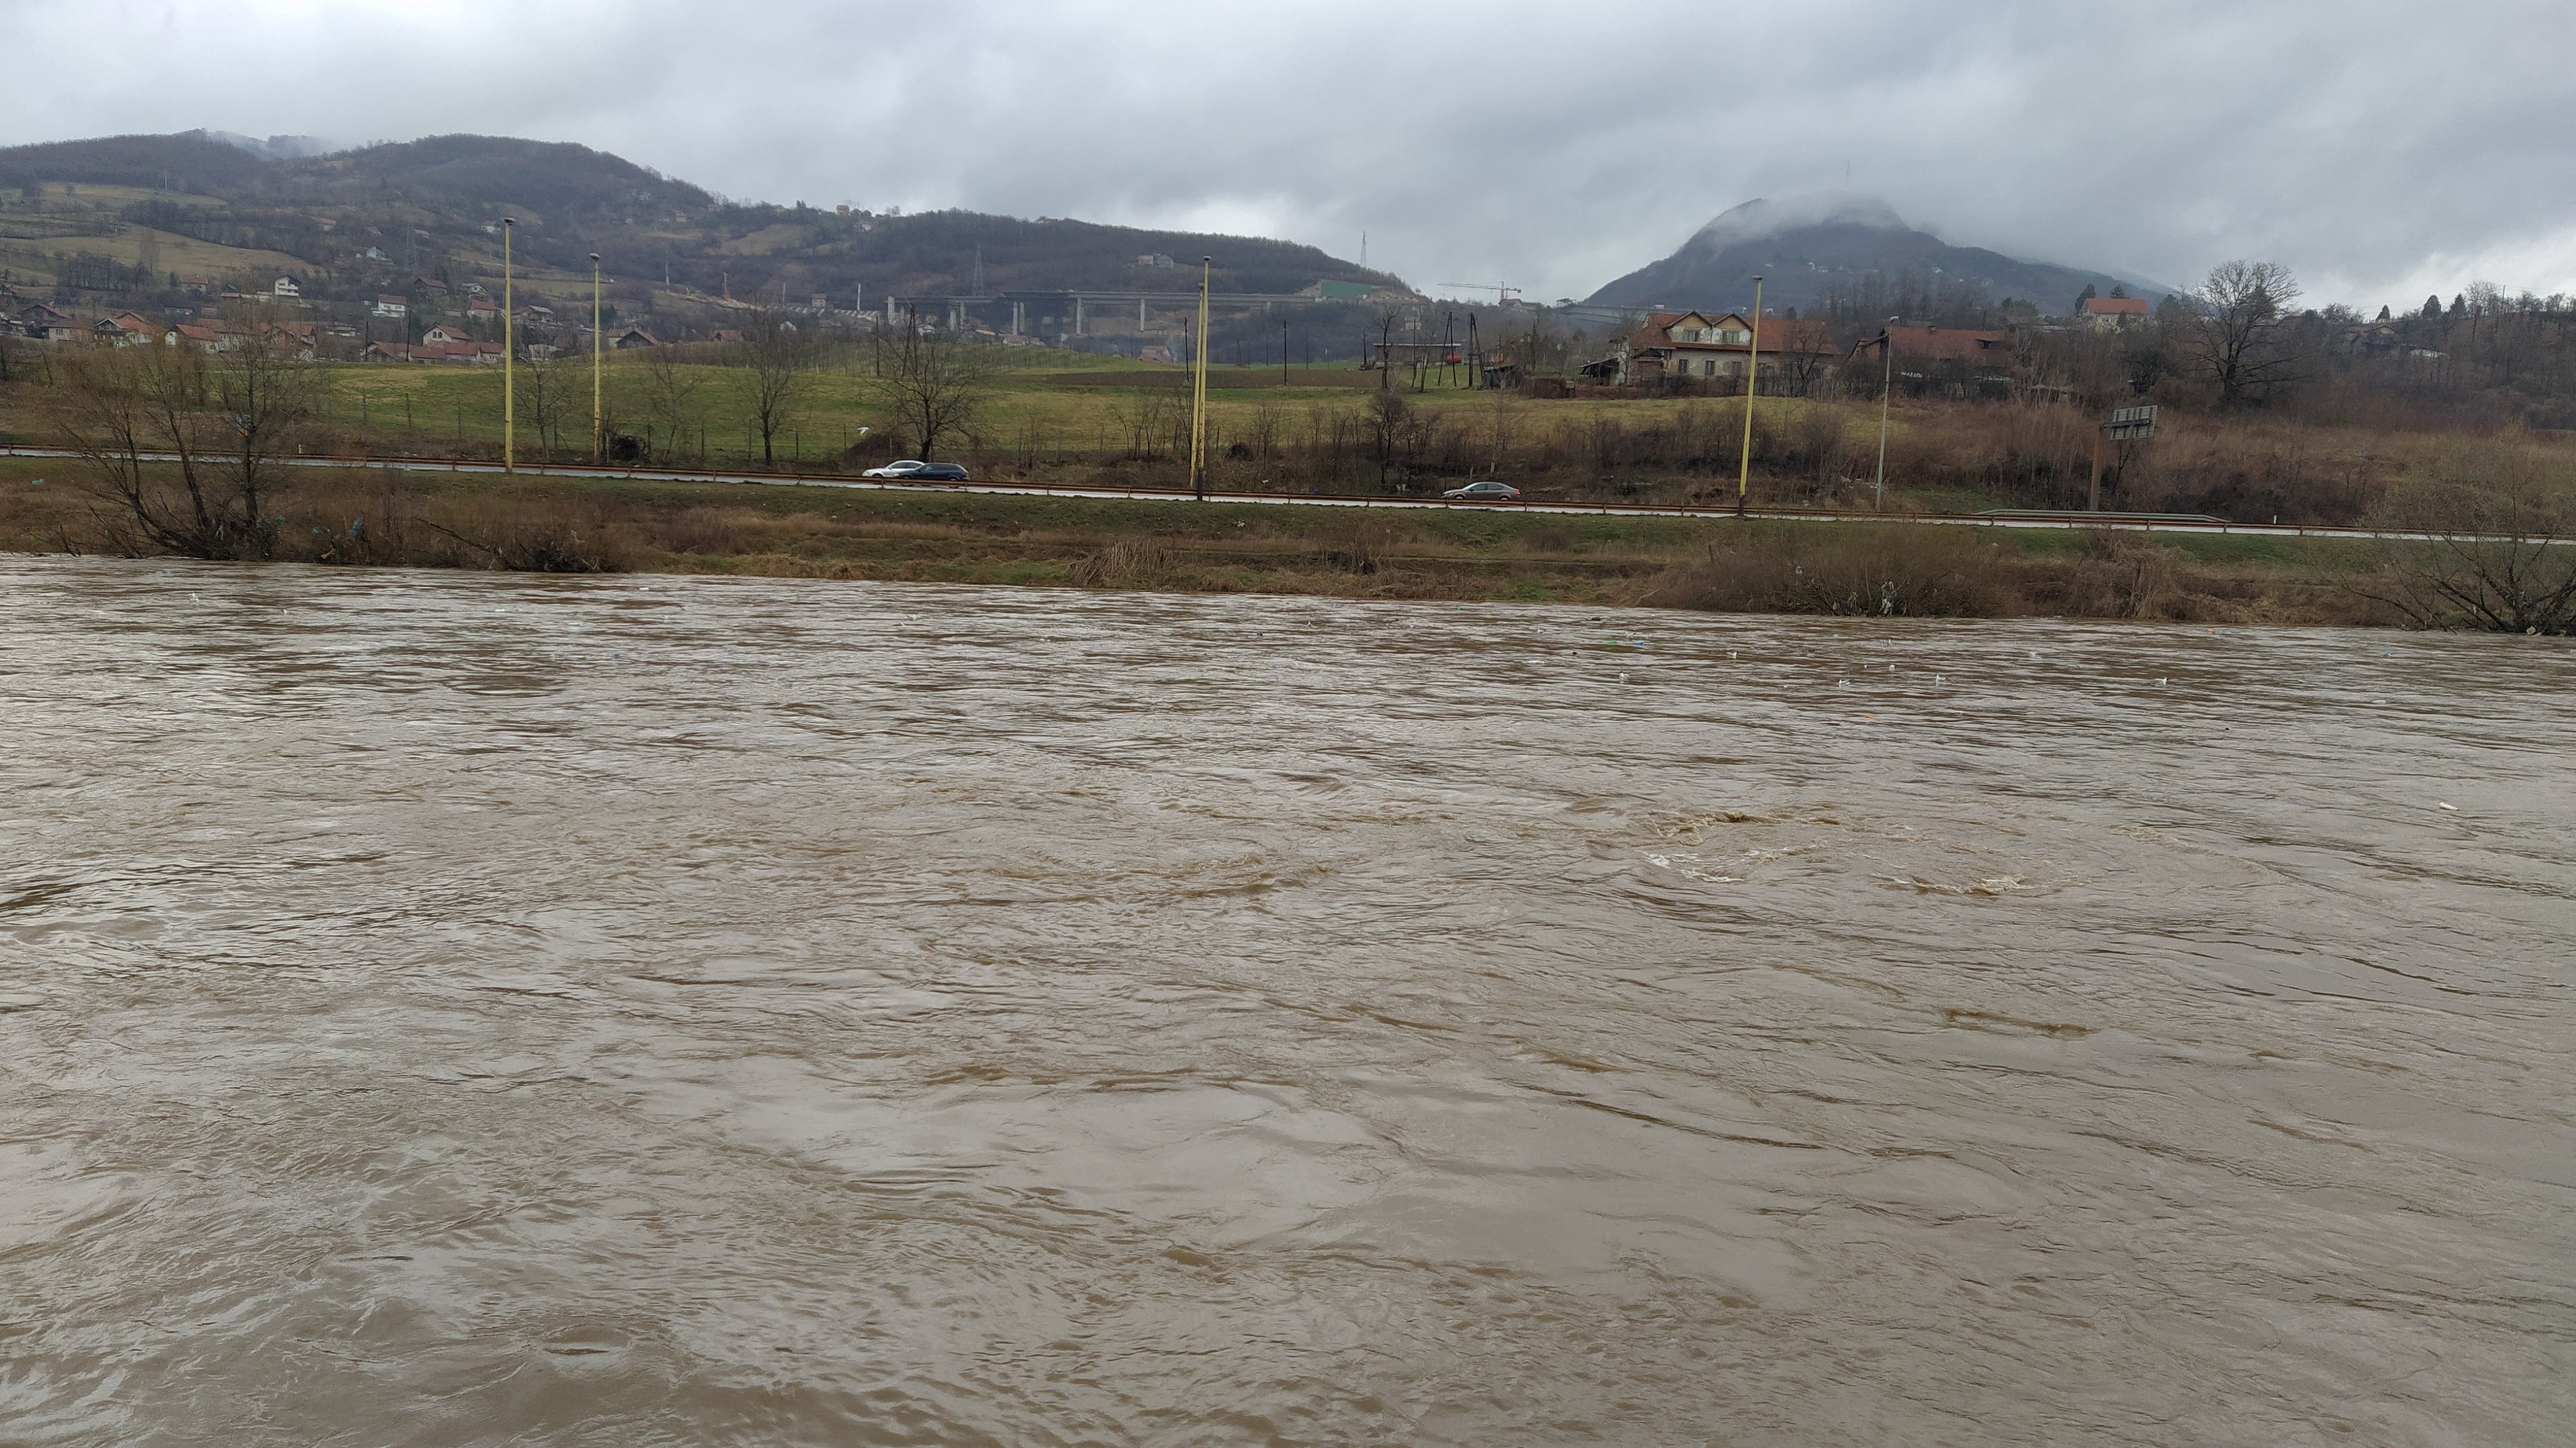Plastic Bottle: (2438, 802, 2457, 811), (1529, 660, 1545, 666), (639, 586, 651, 591), (1591, 616, 1601, 621), (2373, 699, 2387, 703), (1633, 641, 1642, 644), (1606, 641, 1615, 644), (579, 657, 586, 660), (495, 609, 504, 611), (2380, 653, 2388, 655), (614, 653, 617, 657), (1865, 715, 1870, 717), (1458, 607, 1461, 609)
